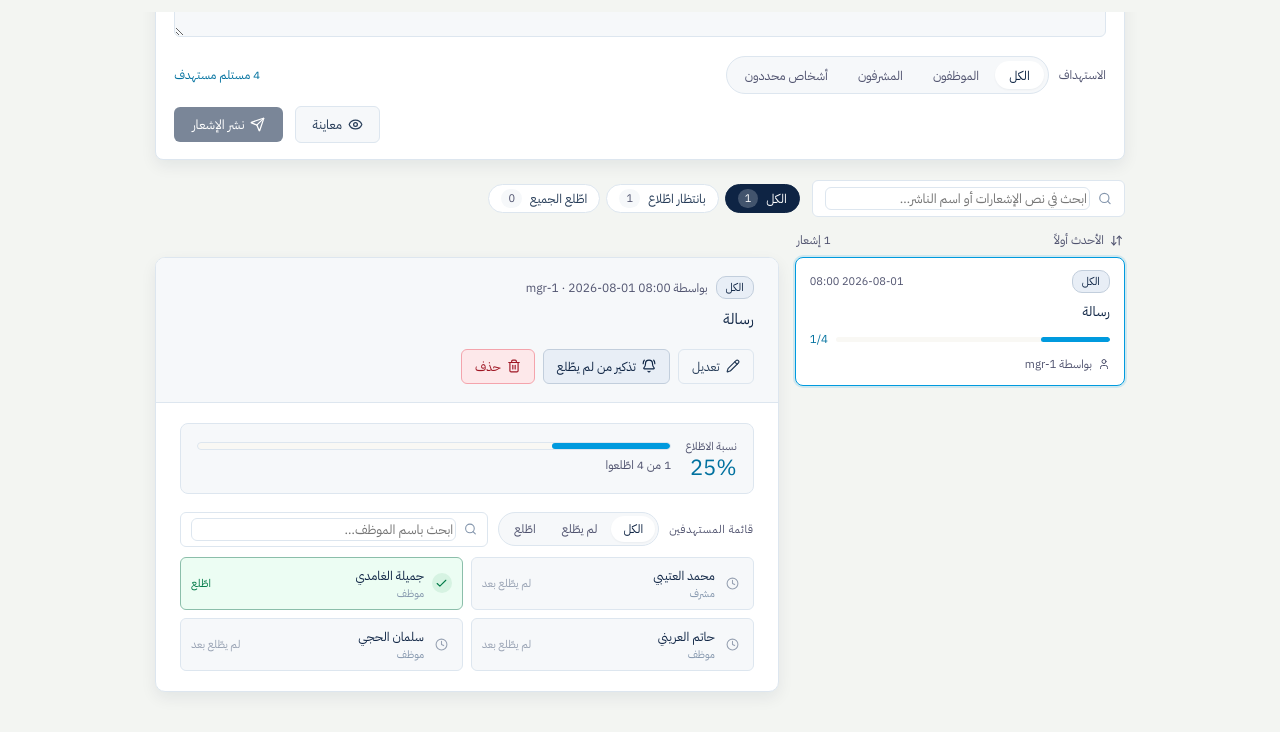
Test: NotificationManager detail pane › filters and searches the roster without touching the counts
(page scrolled)
Expected: the text "1 من 4 اطّلعوا" is shown, [606,456,671,474]
Click the tab "لم يطّلع" at (580, 529), box [550,516,610,542]
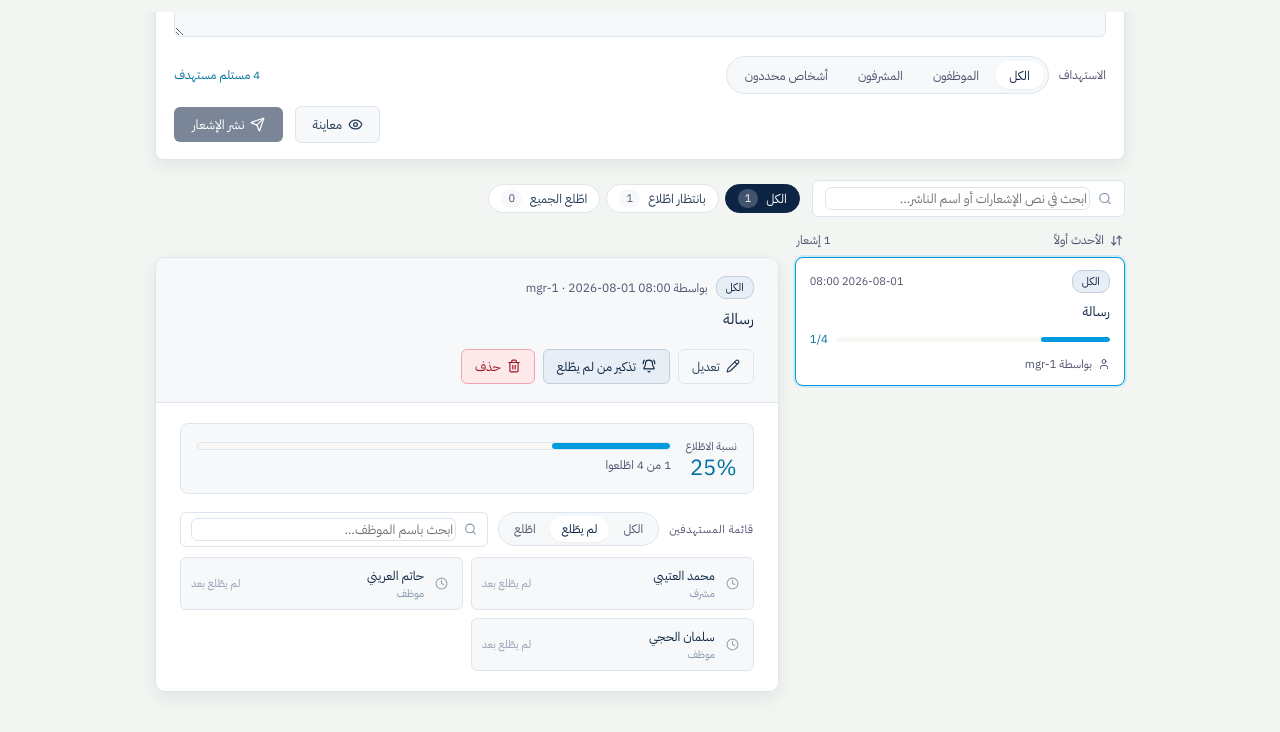
Expected: the text "محمد العتيبي" is shown, [653,566,715,585]
Result: the text "جميلة الغامدي" is gone
Click the tab "اطّلع" at (525, 529), box [502,516,548,542]
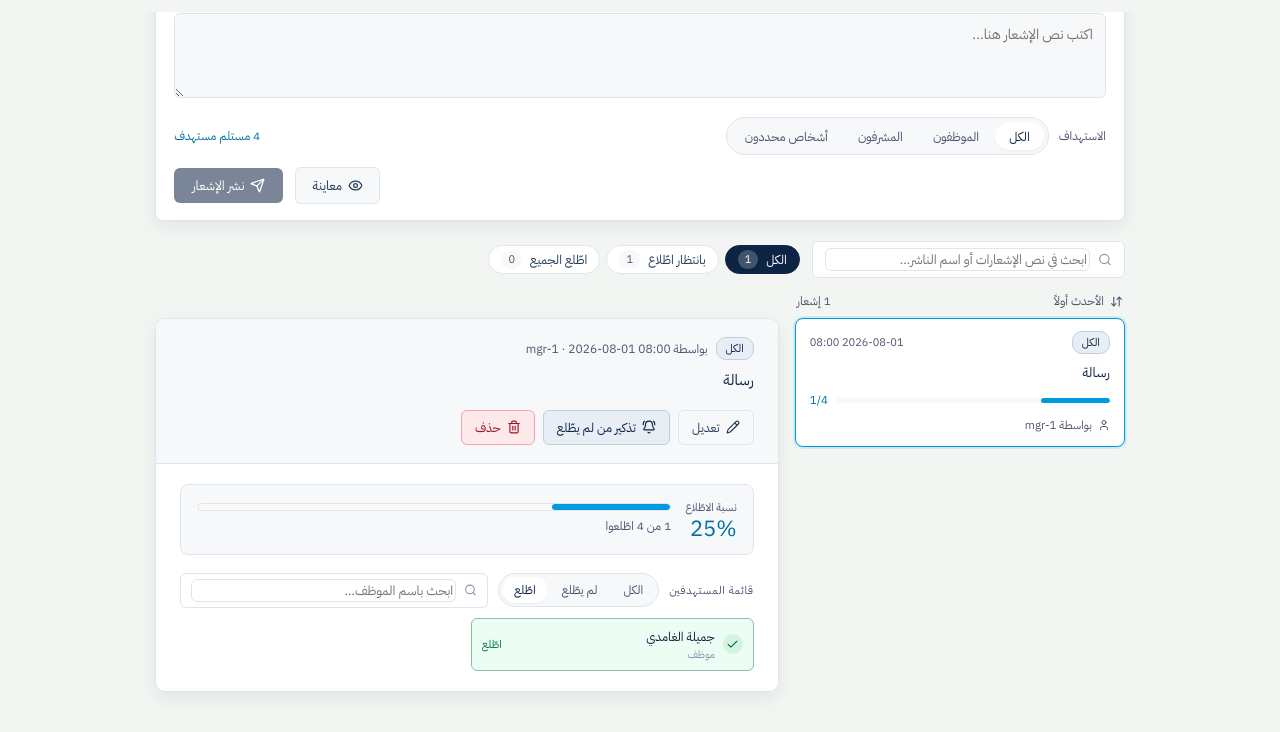
Result: the text "جميلة الغامدي" is shown at [646,627,715,646]
Result: the text "محمد العتيبي" is gone
Click the tab "الكل" next to "قائمة المستهدفين" at (633, 590), box [611,577,655,603]
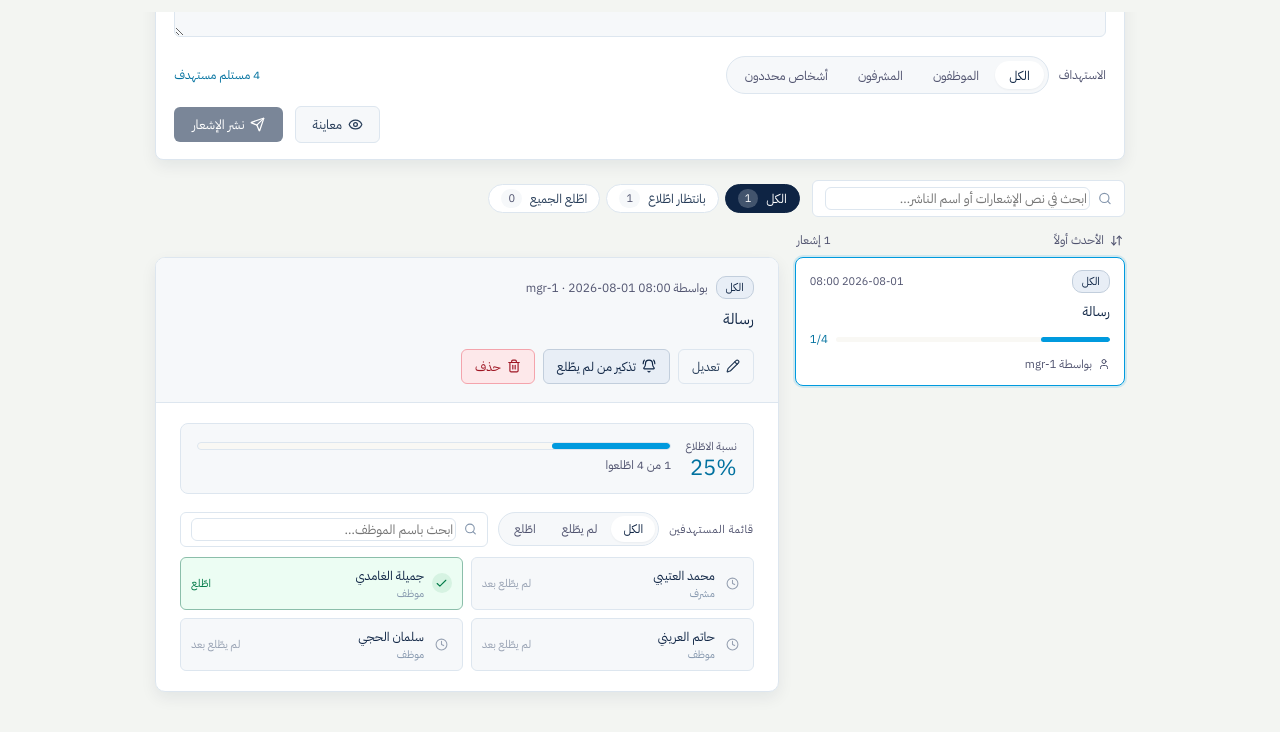
Type "حاتم" into the field labelled "ابحث باسم الموظف…" at (324, 529), box [191,518,456,541]
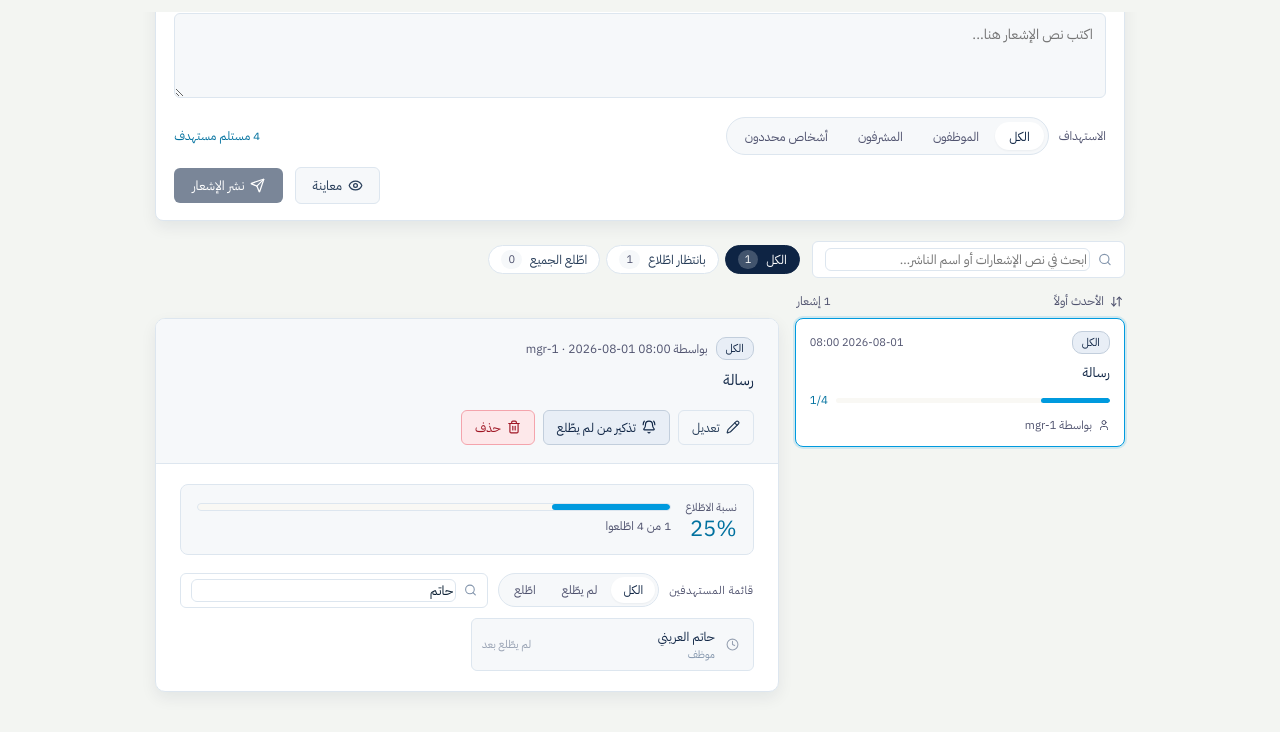
Result: the text "حاتم العريني" is shown at [658,627,715,646]
Result: the text "جميلة الغامدي" is gone
Replace the text in the field named "ابحث باسم الموظف…" with "لا أحد" at (324, 590), box [191,579,456,602]
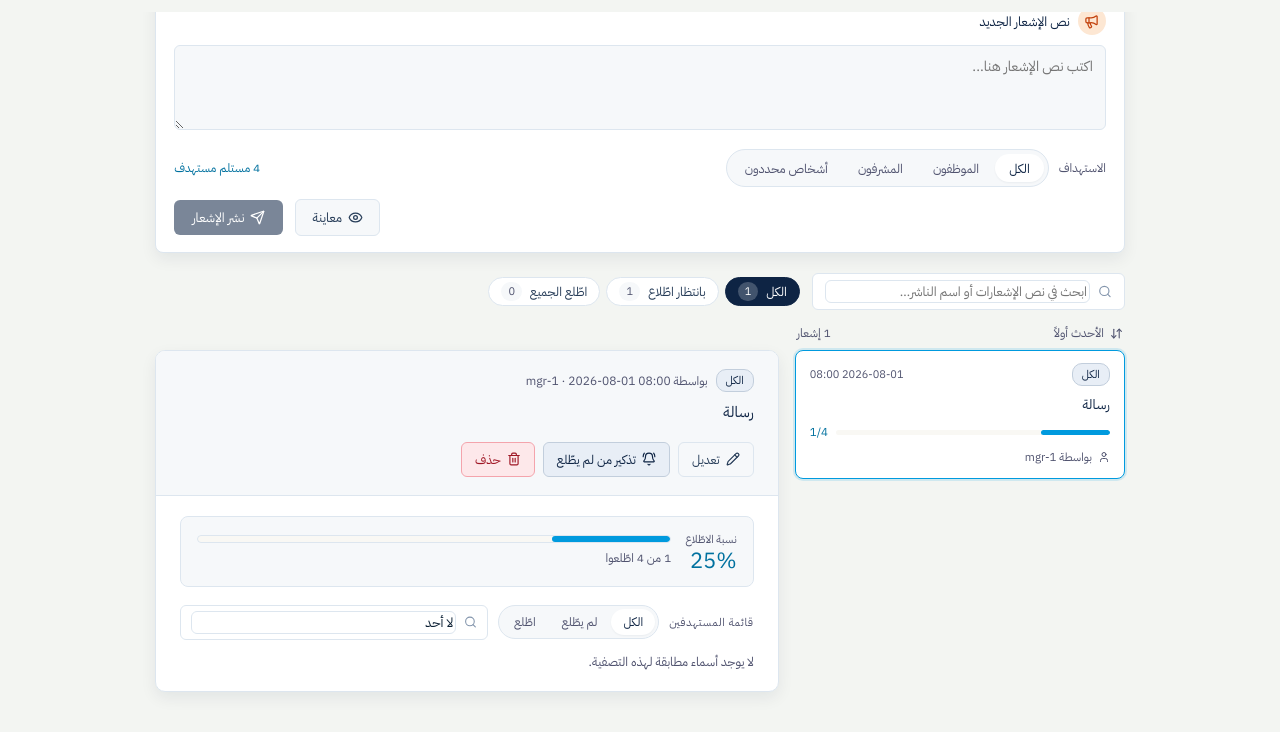
Result: the text "لا يوجد أسماء مطابقة لهذه التصفية." is shown at [588,652,754,671]
